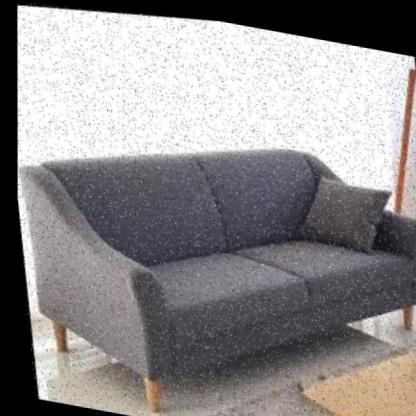Sofa: (5, 69, 416, 416)
